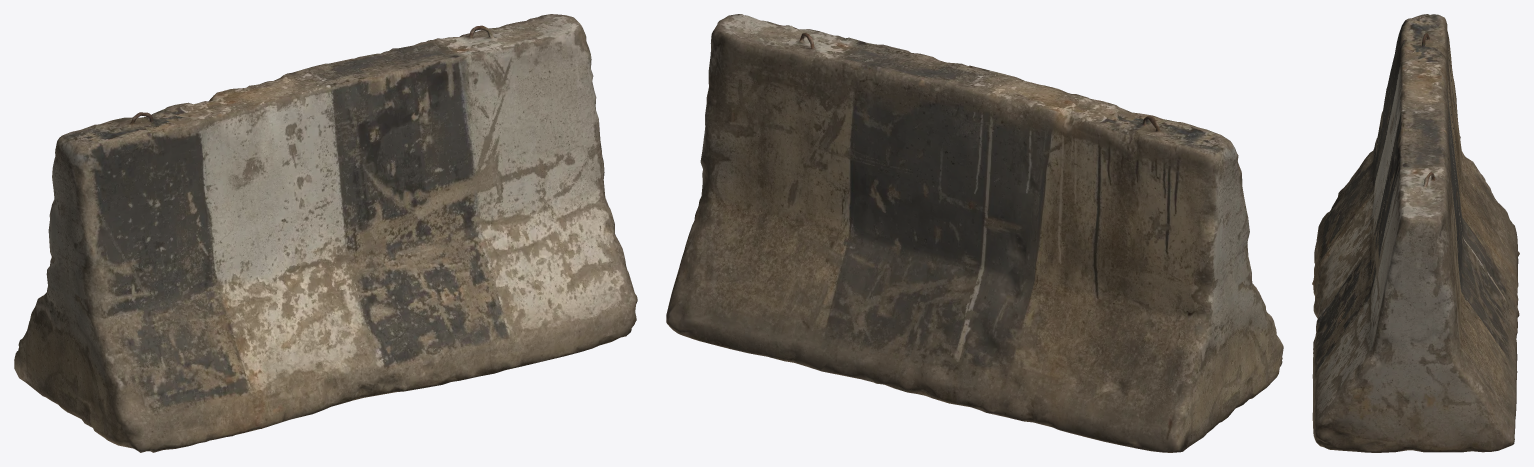
Rendered from concrete_road_barrier.glb.
The picture shows the model from 3 angles, left to right: view 1: azimuth 30°, elevation 25°; view 2: azimuth 150°, elevation 25°; view 3: azimuth 270°, elevation 25°; orthographic projection. The views are drawn at different scales.
Visible parts, largest first — view 1: concrete_road_barrier; view 2: concrete_road_barrier; view 3: concrete_road_barrier.
Part boxes in pixels (bbox=[...]): concrete_road_barrier: bbox=[14, 14, 637, 452]; concrete_road_barrier: bbox=[666, 14, 1283, 452]; concrete_road_barrier: bbox=[1312, 14, 1519, 452].
Bounding box in the file's own units: 1.54 × 0.8303 × 0.6387.
Materials: 1 (1 with a texture image).
